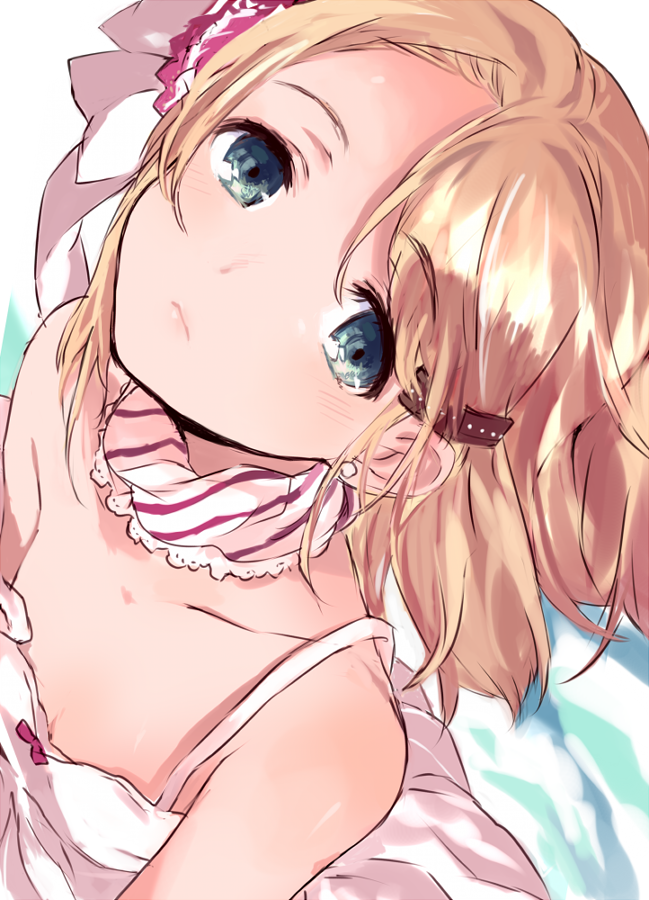纸片人正脸: (109, 0, 605, 500)
